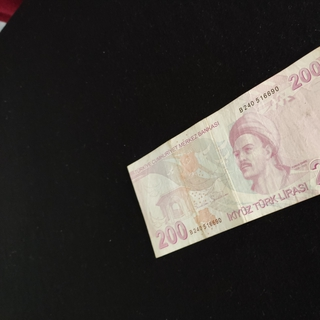200TLBack: (127, 44, 320, 259)
